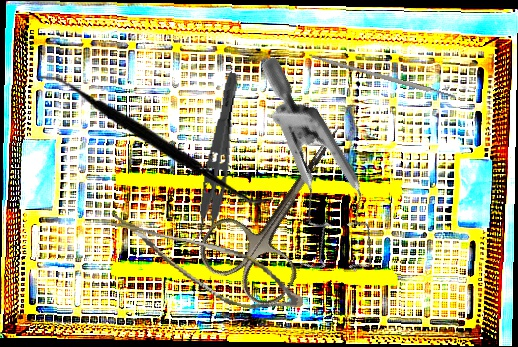Iris Scissors: (189, 99, 382, 315)
Micro Scissor: (94, 212, 313, 320)
Scalpel Handle: (308, 52, 458, 102)
Spatula Surgical: (35, 66, 274, 209)
Speculum: (179, 54, 436, 299)
Tissue Forceps: (188, 69, 242, 247)
